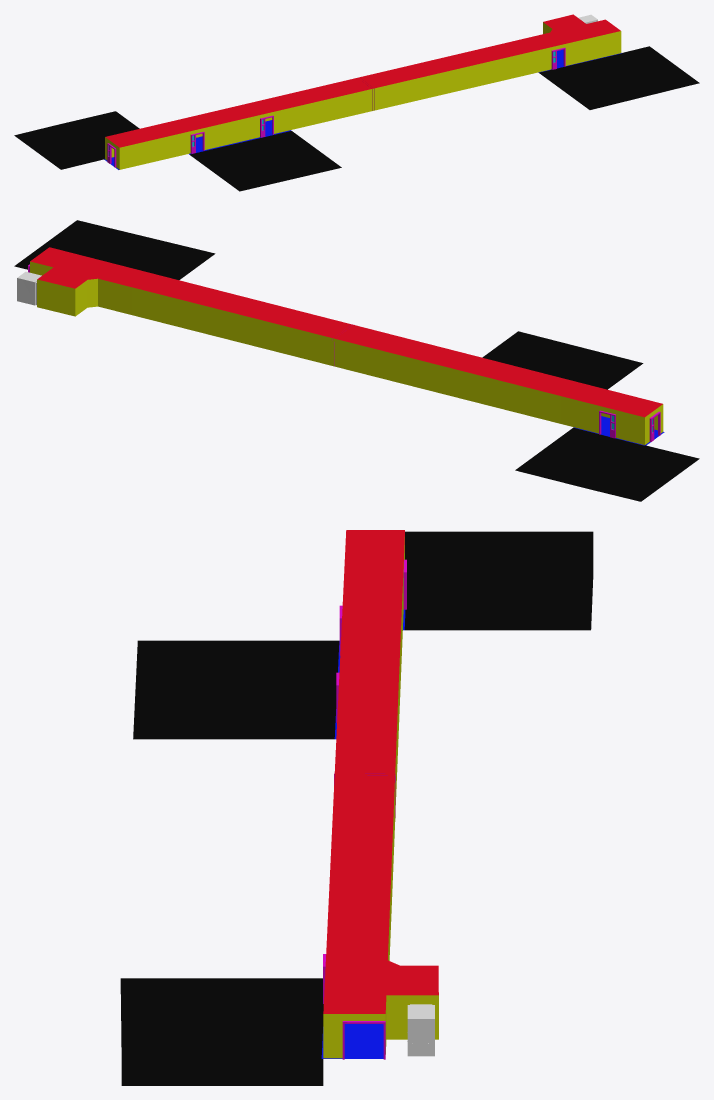
The model's file is GBW LvL2.fbx.
The picture shows the model from 3 angles, top to bottom: view 1: azimuth 30°, elevation 25°; view 2: azimuth 150°, elevation 25°; view 3: azimuth 270°, elevation 25°; orthographic projection. The views are drawn at different scales.
Visible parts, largest first — view 1: GBWB F2???, GBWB F2Muren, GBWB F2Plafond, GBWB F2Vloer; view 2: GBWB F2Muren, GBWB F2???, GBWB F2Plafond, Lift F2; view 3: GBWB F2???, GBWB F2Plafond, GBWB F2Muren, GBWB F2Vloer, Lift F2.
Part boxes in pixels (x1=…): GBWB F2???: x1=14, y1=46, x2=699, y2=191; GBWB F2Muren: x1=105, y1=22, x2=621, y2=169; GBWB F2Plafond: x1=105, y1=14, x2=620, y2=147; GBWB F2Vloer: x1=104, y1=49, x2=621, y2=169; GBWB F2Muren: x1=30, y1=261, x2=663, y2=445; GBWB F2???: x1=14, y1=220, x2=699, y2=501; GBWB F2Plafond: x1=30, y1=247, x2=662, y2=417; Lift F2: x1=17, y1=271, x2=41, y2=305; GBWB F2???: x1=120, y1=531, x2=593, y2=1085; GBWB F2Plafond: x1=323, y1=530, x2=438, y2=1013; GBWB F2Muren: x1=323, y1=537, x2=438, y2=1058; GBWB F2Vloer: x1=321, y1=609, x2=405, y2=1058; Lift F2: x1=407, y1=1004, x2=434, y2=1056.
Bounding box in the file's own units: 6685 × 251 × 2409.
